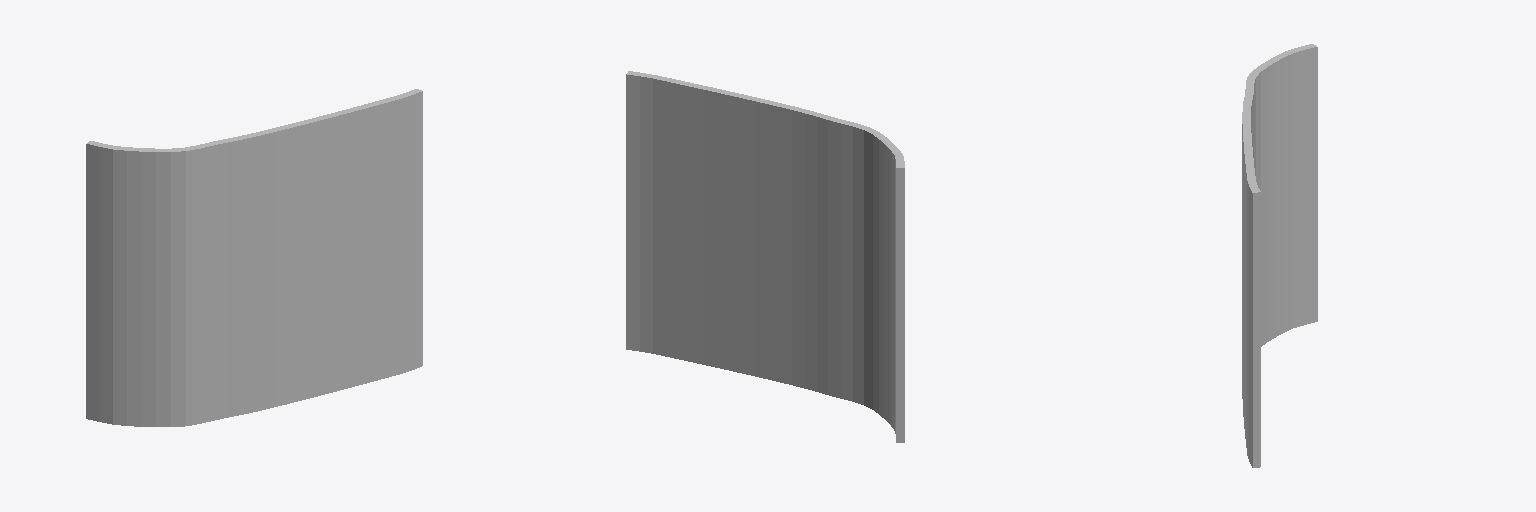
Rendered from EdgeFold3.obj.
The picture shows the model from 3 angles: view 1: azimuth 30°, elevation 25°; view 2: azimuth 150°, elevation 25°; view 3: azimuth 270°, elevation 25°; orthographic projection.
Parts seen in each view (by area): view 1: Cube_Cube.001; view 2: Cube_Cube.001; view 3: Cube_Cube.001.
Boxes of the visible parts, box(x1,y1,x2,y2) form: Cube_Cube.001: box(86, 89, 422, 426); Cube_Cube.001: box(626, 71, 904, 442); Cube_Cube.001: box(1242, 44, 1317, 467).
Bounding box in the file's own units: 5.54 × 4.75 × 1.18.